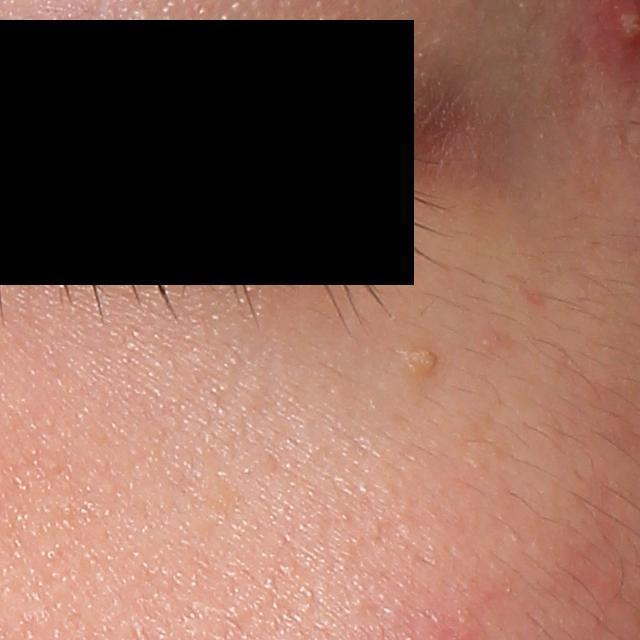other: (399, 343, 444, 383)
